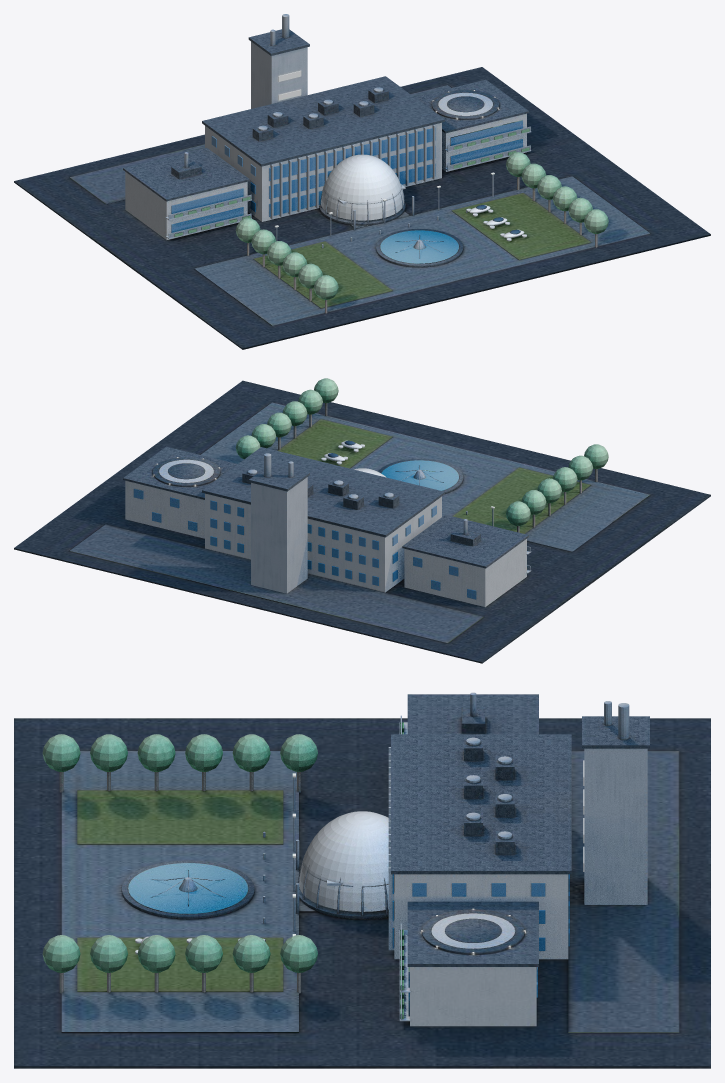
File: rebirth_workshop.glb
The picture shows the model from 3 angles, top to bottom: view 1: azimuth 30°, elevation 25°; view 2: azimuth 150°, elevation 25°; view 3: azimuth 270°, elevation 25°; orthographic projection. The views are drawn at different scales.
Visible parts, largest first — view 1: site_ground, props_main, props_wings, props_court, props_dome; view 2: site_ground, props_main, props_wings, props_court; view 3: site_ground, props_main, props_wings, props_court, props_dome.
Boxes of the visible parts, x1=… form: site_ground: x1=14, y1=67, x2=710, y2=349; props_main: x1=202, y1=14, x2=444, y2=230; props_wings: x1=123, y1=79, x2=531, y2=239; props_court: x1=235, y1=152, x2=608, y2=313; props_dome: x1=319, y1=154, x2=405, y2=225; site_ground: x1=14, y1=380, x2=710, y2=663; props_main: x1=202, y1=447, x2=444, y2=593; props_wings: x1=123, y1=446, x2=531, y2=607; props_court: x1=235, y1=378, x2=608, y2=532; site_ground: x1=14, y1=718, x2=710, y2=1068; props_main: x1=296, y1=701, x2=649, y2=959; props_wings: x1=399, y1=692, x2=538, y2=1026; props_court: x1=42, y1=734, x2=317, y2=993; props_dome: x1=298, y1=811, x2=388, y2=919.
Size of the model in its own units: 104 by 27.3 by 88.
Materials: 5 (5 with a texture image).
